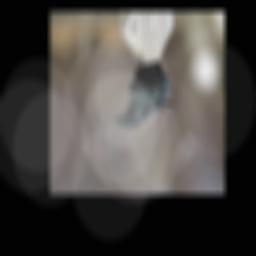Crow: (115, 55, 172, 127)
